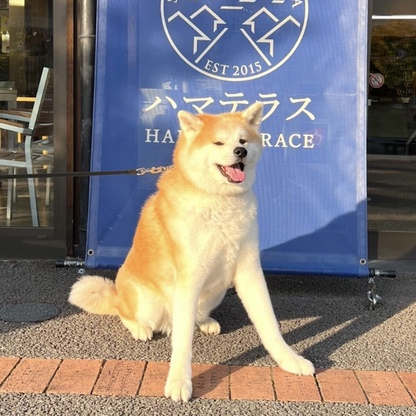akita: (62, 99, 321, 408)
